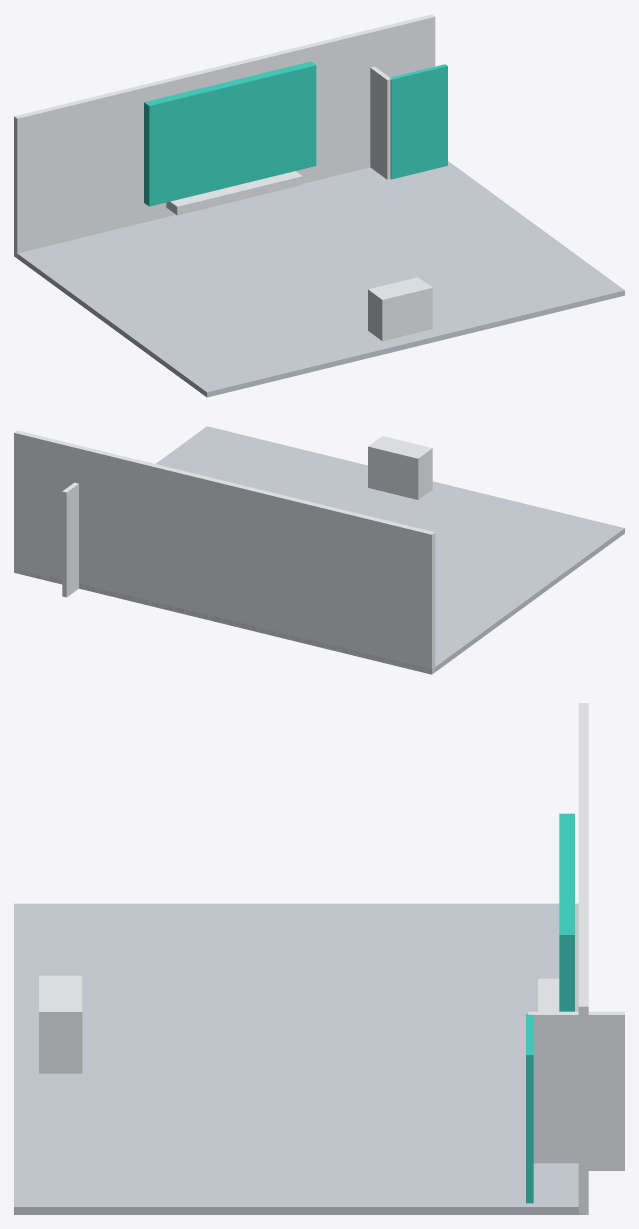
3 views of the same model, one above another, from view 1: azimuth 30°, elevation 25°; view 2: azimuth 150°, elevation 25°; view 3: azimuth 270°, elevation 25° (orthographic). The views are drawn at different scales.
Visible parts, largest first — view 1: Exhibition Booth Concept; view 2: Exhibition Booth Concept; view 3: Exhibition Booth Concept.
Boxes of the visible parts, x1=… form: Exhibition Booth Concept: x1=14, y1=14, x2=624, y2=397; Exhibition Booth Concept: x1=14, y1=426, x2=624, y2=674; Exhibition Booth Concept: x1=14, y1=703, x2=624, y2=1214.
Bounding box in the file's own units: 10 × 3.2 × 8.51.
